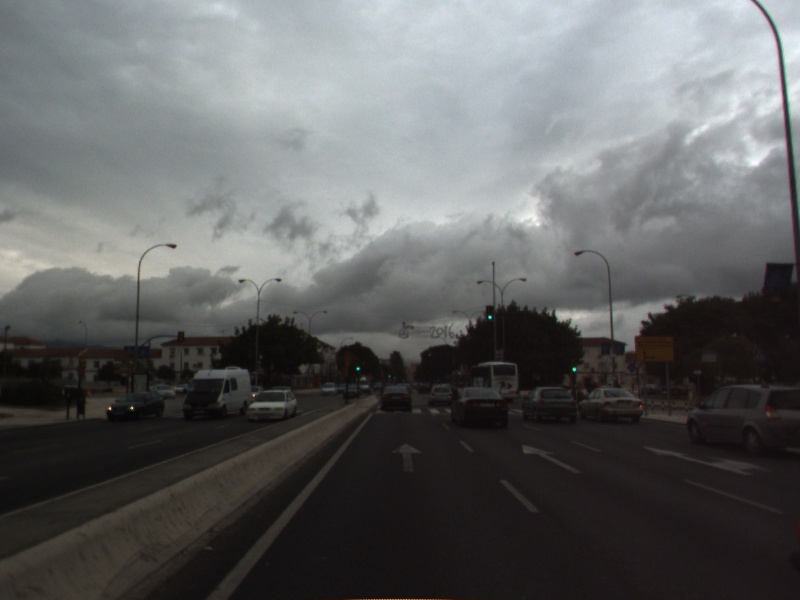STRAIGHT: (520, 442, 586, 476), (389, 441, 424, 475)
STRAIGHT_RIGHT: (642, 444, 773, 478)
